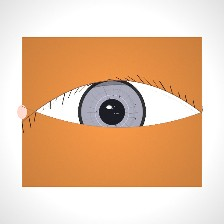pinguecula_lesion: (139, 90, 190, 131)
